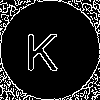K: (25, 25, 58, 70)
